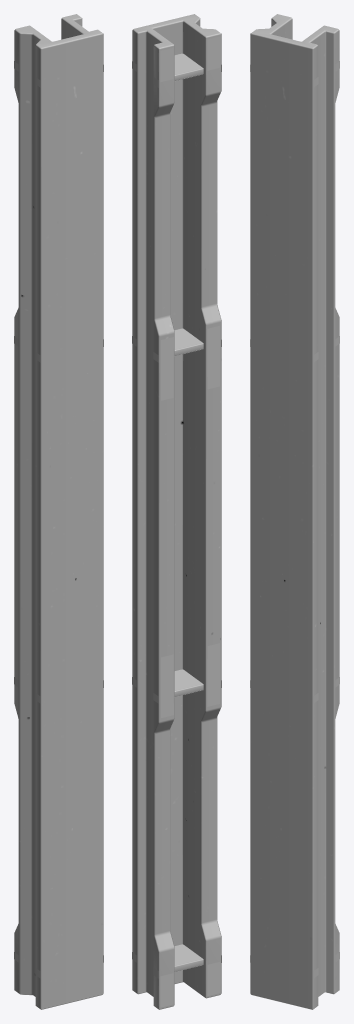
The model's file is SM_Modular_Interior_Part_Merged.fbx.
3 views of the same model, side by side, from view 1: azimuth 30°, elevation 25°; view 2: azimuth 210°, elevation 25°; view 3: azimuth 330°, elevation 25° (orthographic).
Visible parts, largest first — view 1: SM_Modular_Interior_Part_Merged_LOD0; view 2: SM_Modular_Interior_Part_Merged_LOD0; view 3: SM_Modular_Interior_Part_Merged_LOD0.
Boxes of the visible parts, left/top/right/bottom form: SM_Modular_Interior_Part_Merged_LOD0: left=14, top=14, right=103, bottom=1009; SM_Modular_Interior_Part_Merged_LOD0: left=132, top=14, right=221, bottom=1009; SM_Modular_Interior_Part_Merged_LOD0: left=250, top=14, right=339, bottom=1009.
Size of the model in its own units: 24.27 by 17.91 by 350.
